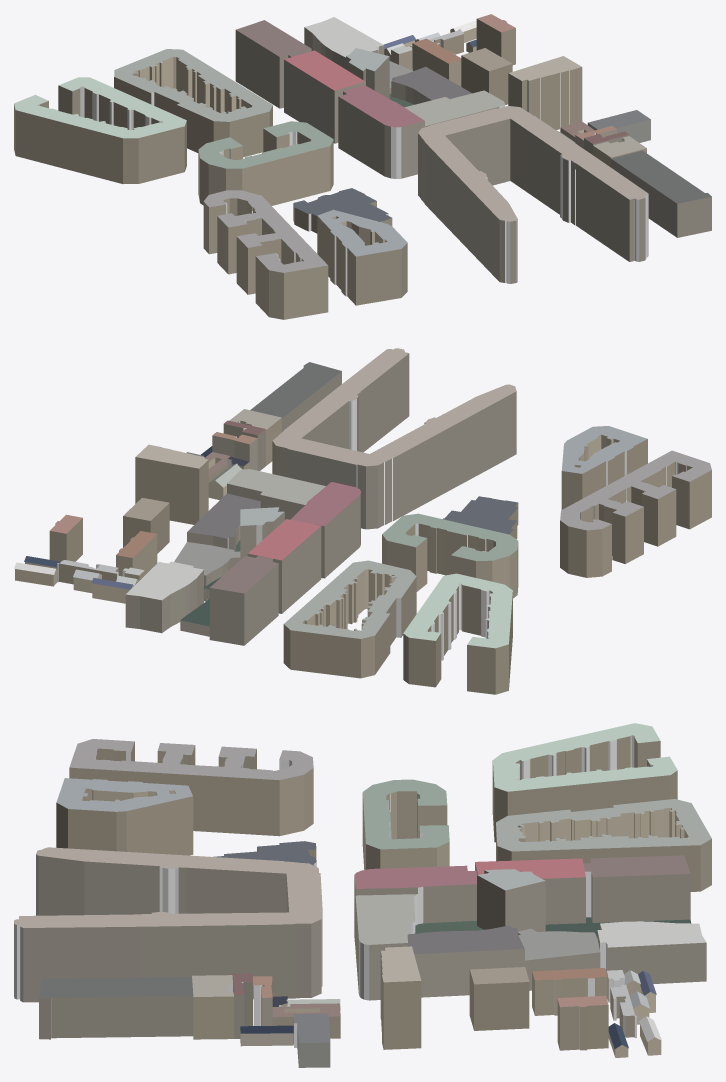
The picture shows the model from 3 angles, top to bottom: view 1: azimuth 30°, elevation 25°; view 2: azimuth 150°, elevation 25°; view 3: azimuth 270°, elevation 25°; orthographic projection. The views are drawn at different scales.
Visible parts, largest first — view 1: tuile; view 2: tuile; view 3: tuile.
Part boxes in pixels (bbox=[...]): tuile: bbox=[14, 14, 711, 319]; tuile: bbox=[14, 348, 711, 694]; tuile: bbox=[14, 723, 711, 1067].
Bounding box in the file's own units: 284 × 36.21 × 291.
